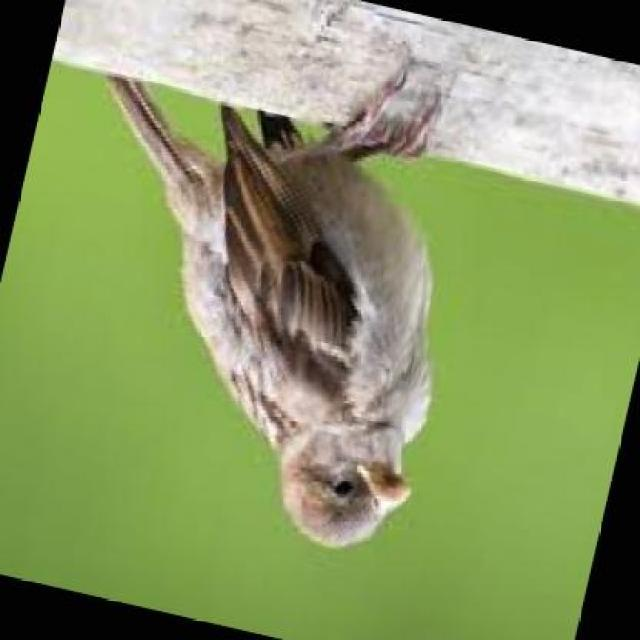Bird: (100, 66, 447, 554)
